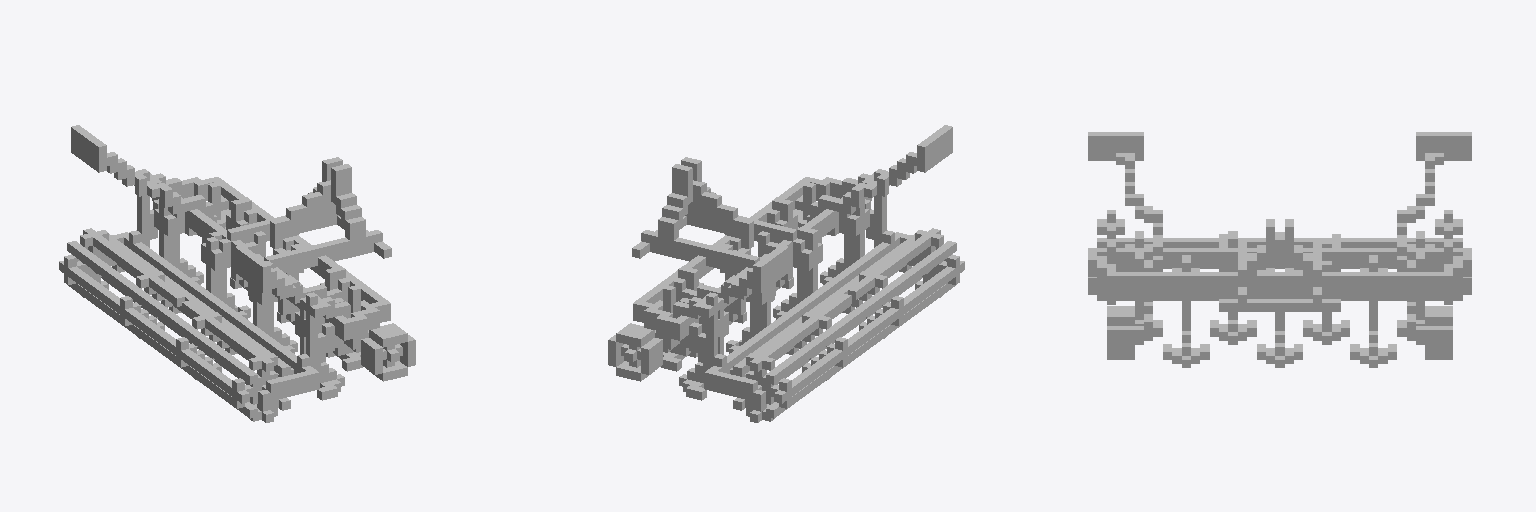
3 views of the same model, side by side, from view 1: azimuth 30°, elevation 25°; view 2: azimuth 150°, elevation 25°; view 3: azimuth 270°, elevation 25° (orthographic).
Parts seen in each view (by area): view 1: exported.Merged_Plane-tex; view 2: exported.Merged_Plane-tex; view 3: exported.Merged_Plane-tex.
Part boxes in pixels (x1,y1,x2,y2): exported.Merged_Plane-tex: (59, 125, 415, 422); exported.Merged_Plane-tex: (608, 125, 964, 422); exported.Merged_Plane-tex: (1088, 132, 1471, 367).
Size of the model in its own units: 2.6 by 1.9 by 4.1.